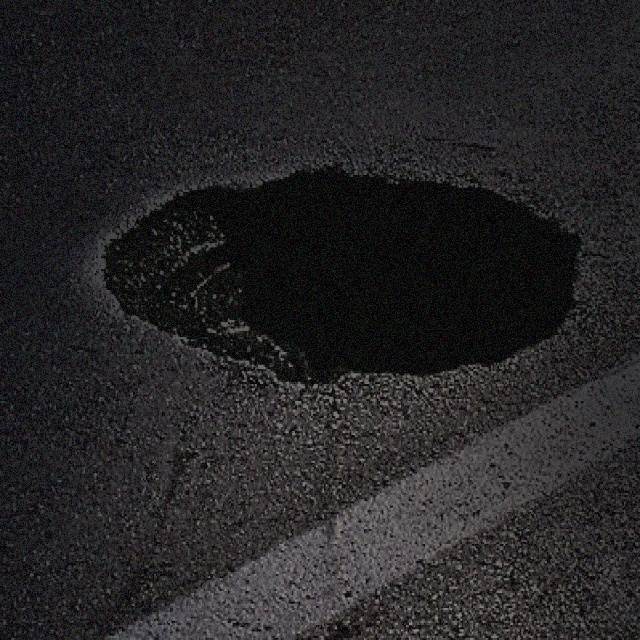pothole: (90, 156, 587, 390)
